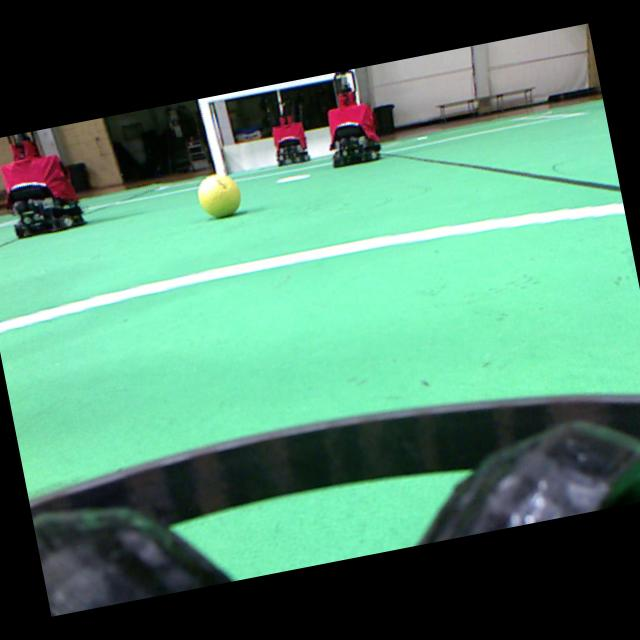ball: (198, 174, 240, 218)
goal: (198, 98, 225, 175)
